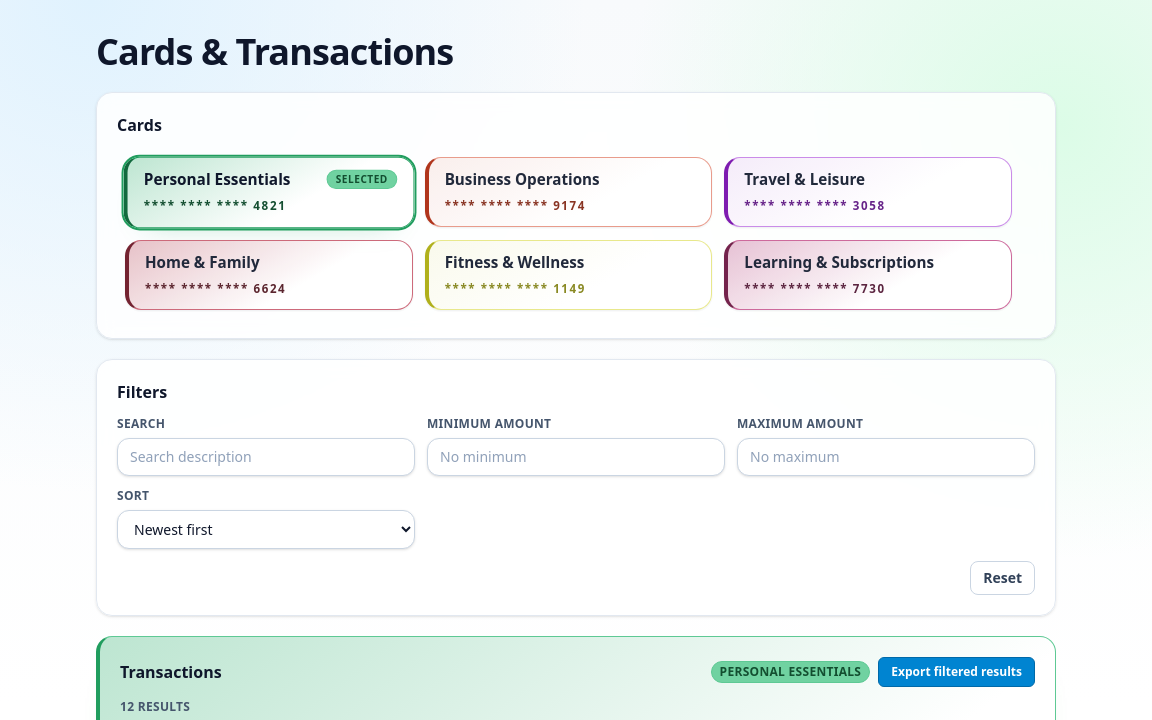
CardsOverview integration › applies highest sort order
The image size is (1152, 720).
Select "Highest amount" in the dropdown labelled "Sort" at [266, 529], box [117,510,415,549]
(page scrolled)
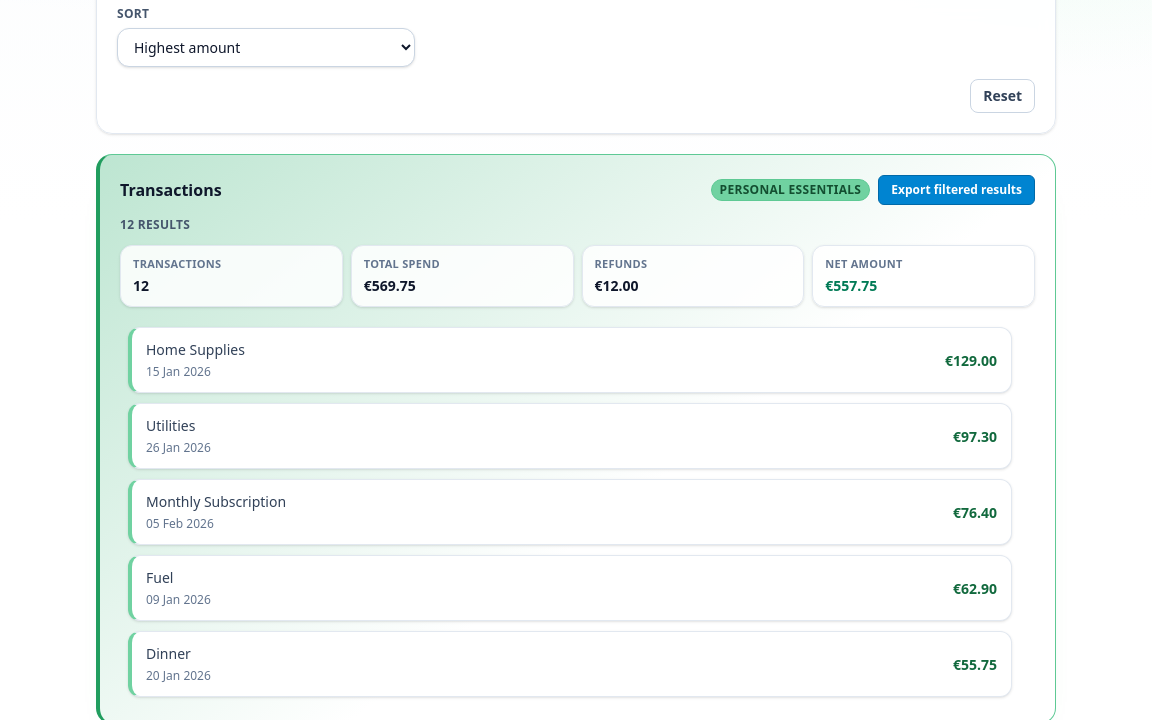
Expected: the list item "Home Supplies 15 Jan 2026 €129.00" is shown, [128,327,1012,393]
